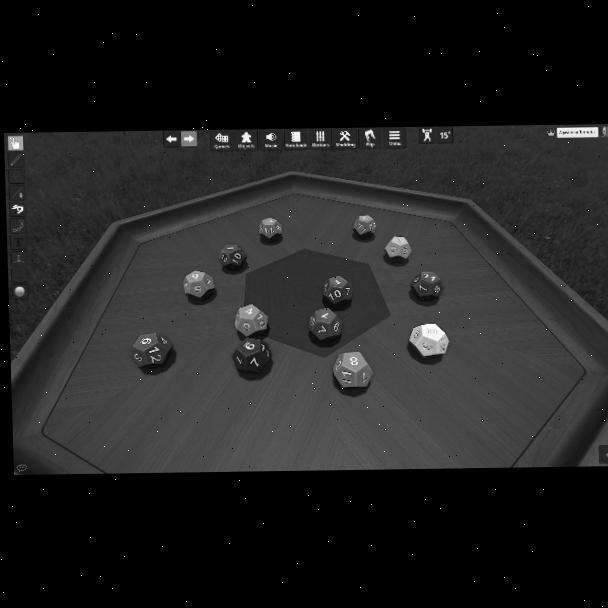d12: (130, 332, 174, 368), (232, 337, 273, 374), (333, 352, 373, 388), (409, 322, 449, 358), (234, 304, 268, 337), (410, 272, 443, 302), (314, 309, 344, 341), (184, 270, 215, 300), (321, 276, 351, 306), (220, 244, 248, 271), (383, 237, 410, 264), (258, 217, 282, 241), (352, 216, 376, 240)
